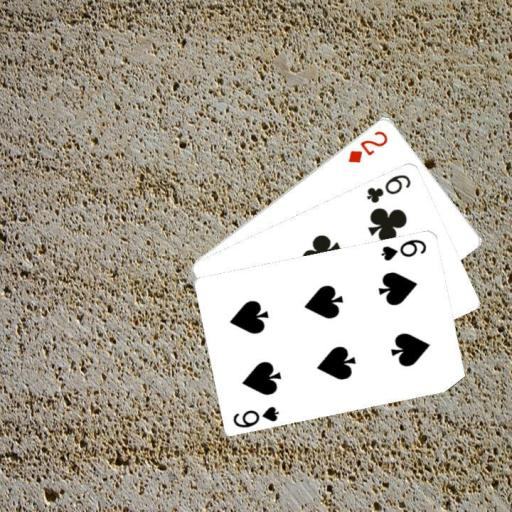2D: (345, 127, 390, 164)
6C: (364, 171, 413, 204)
6S: (230, 402, 281, 429), (378, 235, 428, 262)
